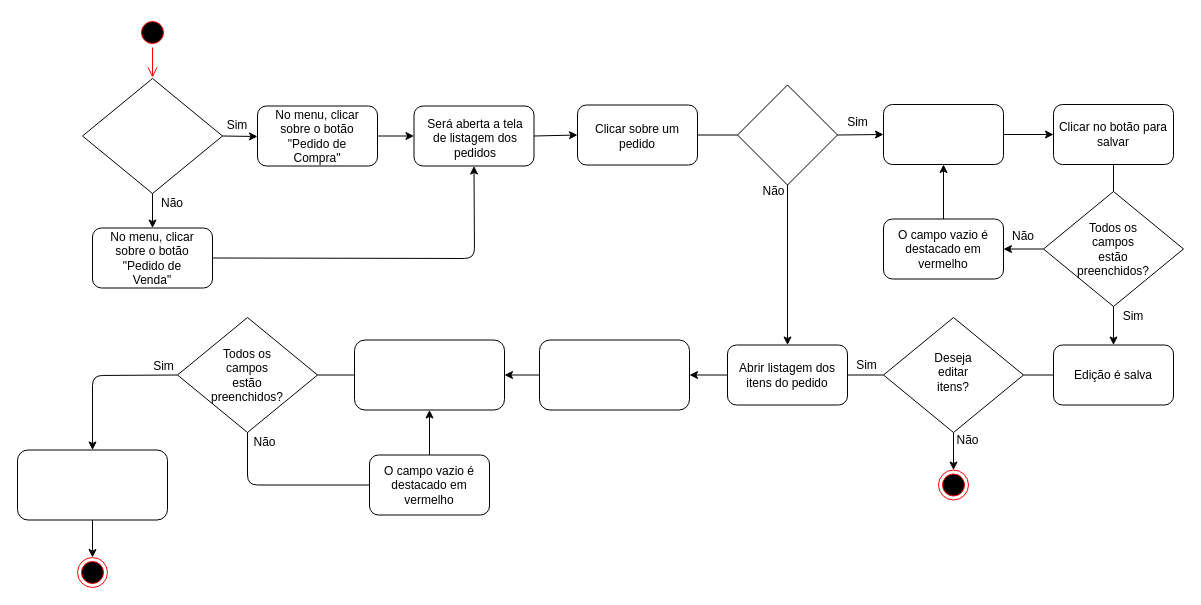
Image size: 1201x605. Some labels were removed from this diagram. The shapes that lost their labels are listed below. From the top down, each one's centre as x and y in pixels, then its label:
(x=152, y=136): É pedido de compra?
(x=787, y=134): Deseja edita capa pedido?
(x=943, y=134): Realizar as edições na capa do pedido
(x=429, y=374): Realizar edições
(x=614, y=374): Clicar sobre o item
(x=92, y=484): Salva edições e apresenta a listagem de todos os itens do pedido
